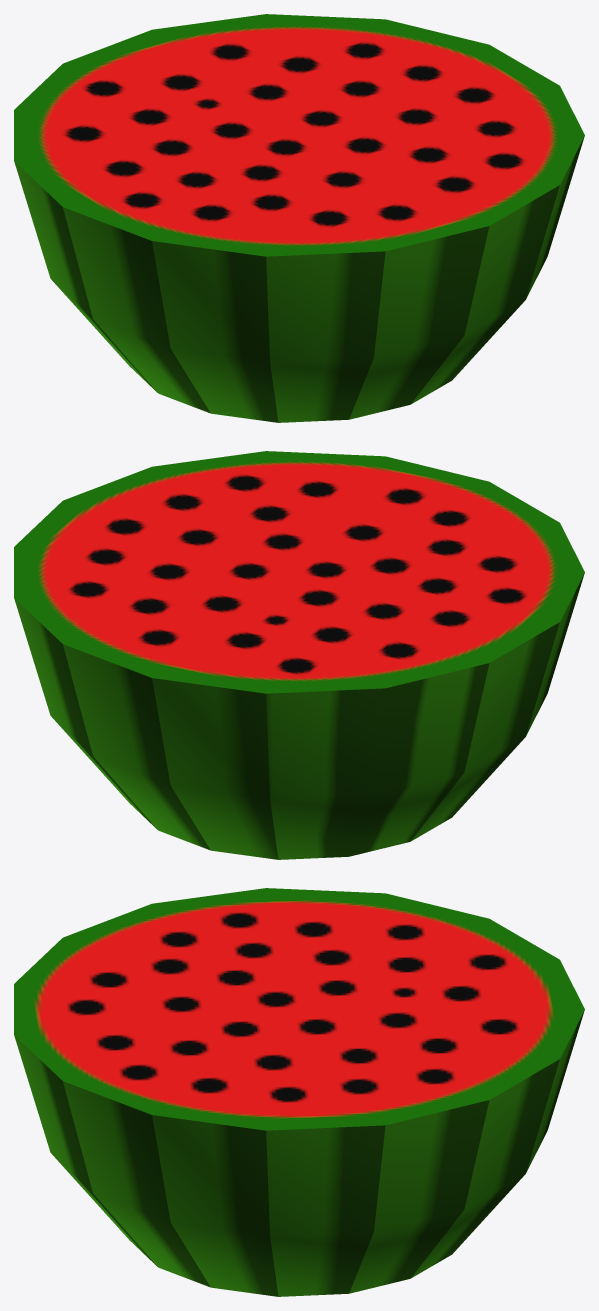
Rendered from Watermelon2.fbx.
3 views of the same model, one above another, from view 1: azimuth 30°, elevation 25°; view 2: azimuth 150°, elevation 25°; view 3: azimuth 270°, elevation 25° (orthographic).
Visible parts, largest first — view 1: Watermelon2; view 2: Watermelon2; view 3: Watermelon2.
Boxes of the visible parts, x1=… form: Watermelon2: x1=14, y1=14, x2=584, y2=422; Watermelon2: x1=14, y1=451, x2=584, y2=859; Watermelon2: x1=14, y1=888, x2=584, y2=1296.
Bounding box in the file's own units: 24.91 × 12.53 × 24.77.
